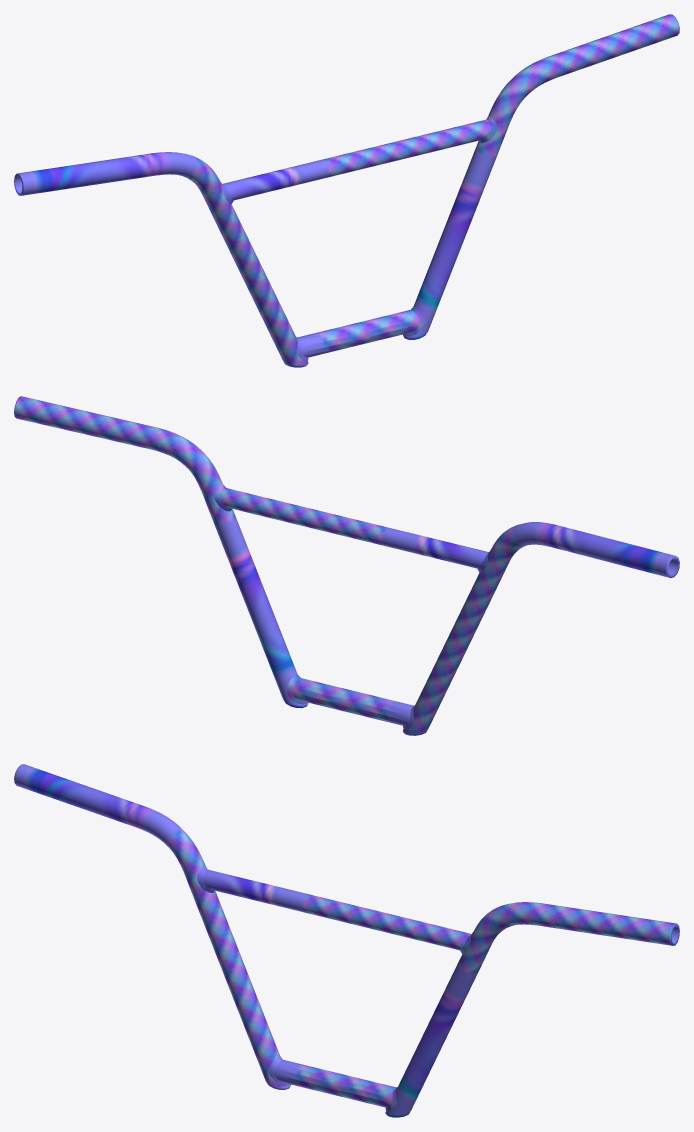
File: BMX_Bars_DAB_Crotal.fbx
3 renders of one model, top to bottom at view 1: azimuth 30°, elevation 25°; view 2: azimuth 150°, elevation 25°; view 3: azimuth 330°, elevation 25°, orthographic.
Parts seen in each view (by area): view 1: BMX_Bars_Dab_Crotal; view 2: BMX_Bars_Dab_Crotal; view 3: BMX_Bars_Dab_Crotal.
Boxes of the visible parts, left/top/right/bottom form: BMX_Bars_Dab_Crotal: left=14, top=14, right=679, bottom=367; BMX_Bars_Dab_Crotal: left=14, top=396, right=679, bottom=735; BMX_Bars_Dab_Crotal: left=14, top=764, right=679, bottom=1117.
Size of the model in its own units: 73.4 by 26.62 by 4.08.
Materials: 1 (1 with a texture image).
